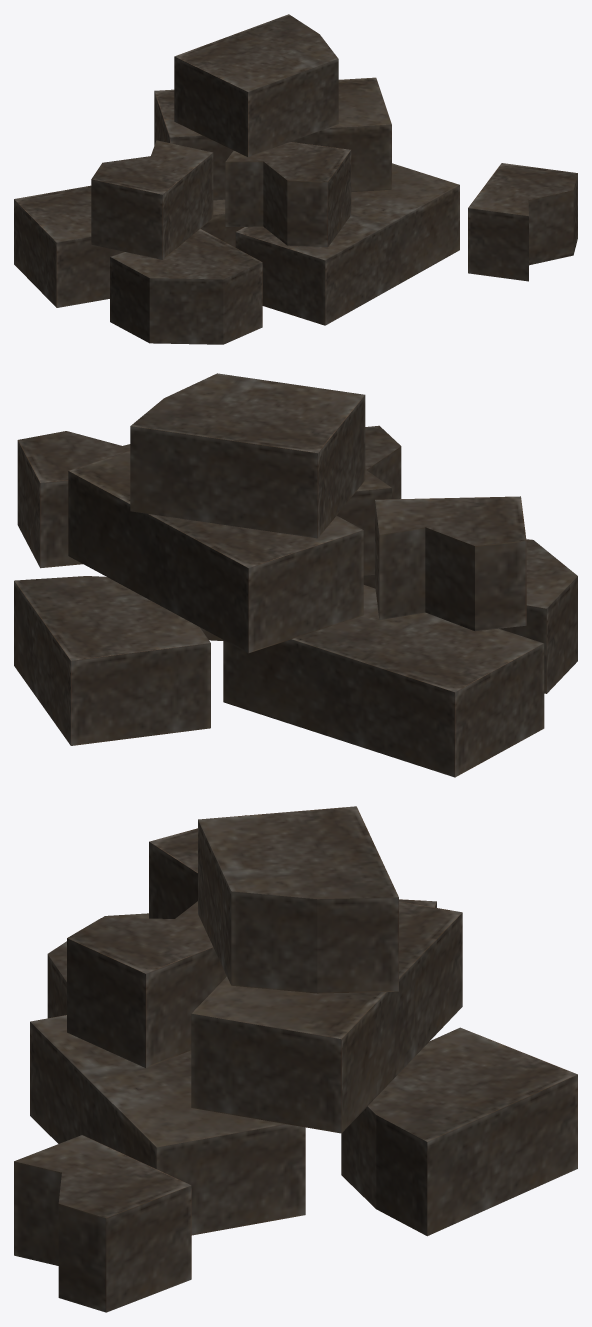
Rendered from bricks_stacked_mx_3_0.dae.
3 views of the same model, one above another, from view 1: azimuth 30°, elevation 25°; view 2: azimuth 150°, elevation 25°; view 3: azimuth 270°, elevation 25° (orthographic). The views are drawn at different scales.
Parts seen in each view (by area): view 1: bricks_stacked_mx_3_0; view 2: bricks_stacked_mx_3_0; view 3: bricks_stacked_mx_3_0.
Part boxes in pixels (x1,y1,x2,y2): bricks_stacked_mx_3_0: [14, 14, 577, 344]; bricks_stacked_mx_3_0: [14, 373, 577, 777]; bricks_stacked_mx_3_0: [14, 806, 577, 1312].
Size of the model in its own units: 0.667 by 0.4878 by 0.27.
1 material, 1 textured.
